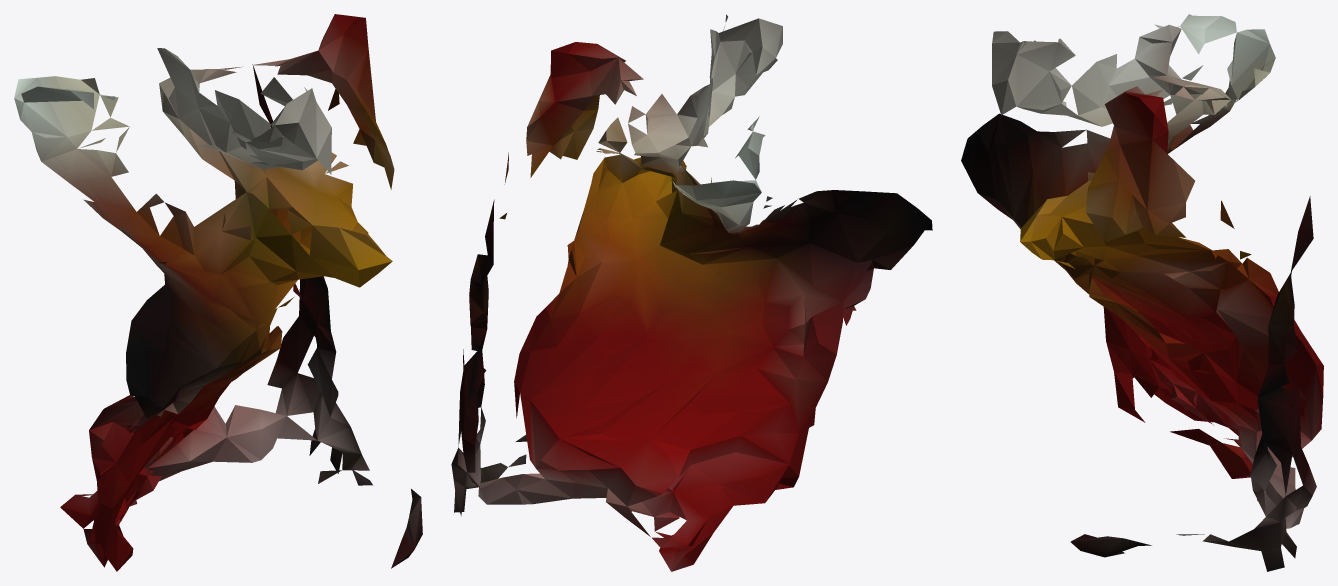
File: prep_run__fridge_side_drawer_4.scan.glb
3 views of the same model, side by side, from view 1: azimuth 30°, elevation 25°; view 2: azimuth 150°, elevation 25°; view 3: azimuth 270°, elevation 25° (orthographic). The views are drawn at different scales.
Parts seen in each view (by area): view 1: geometry_0; view 2: geometry_0; view 3: geometry_0.
Boxes of the visible parts, box(x1,y1,x2,y2) form: geometry_0: box(14, 14, 422, 571); geometry_0: box(451, 14, 932, 571); geometry_0: box(961, 14, 1323, 571).
Size of the model in its own units: 0.384 by 0.5122 by 0.3569.
